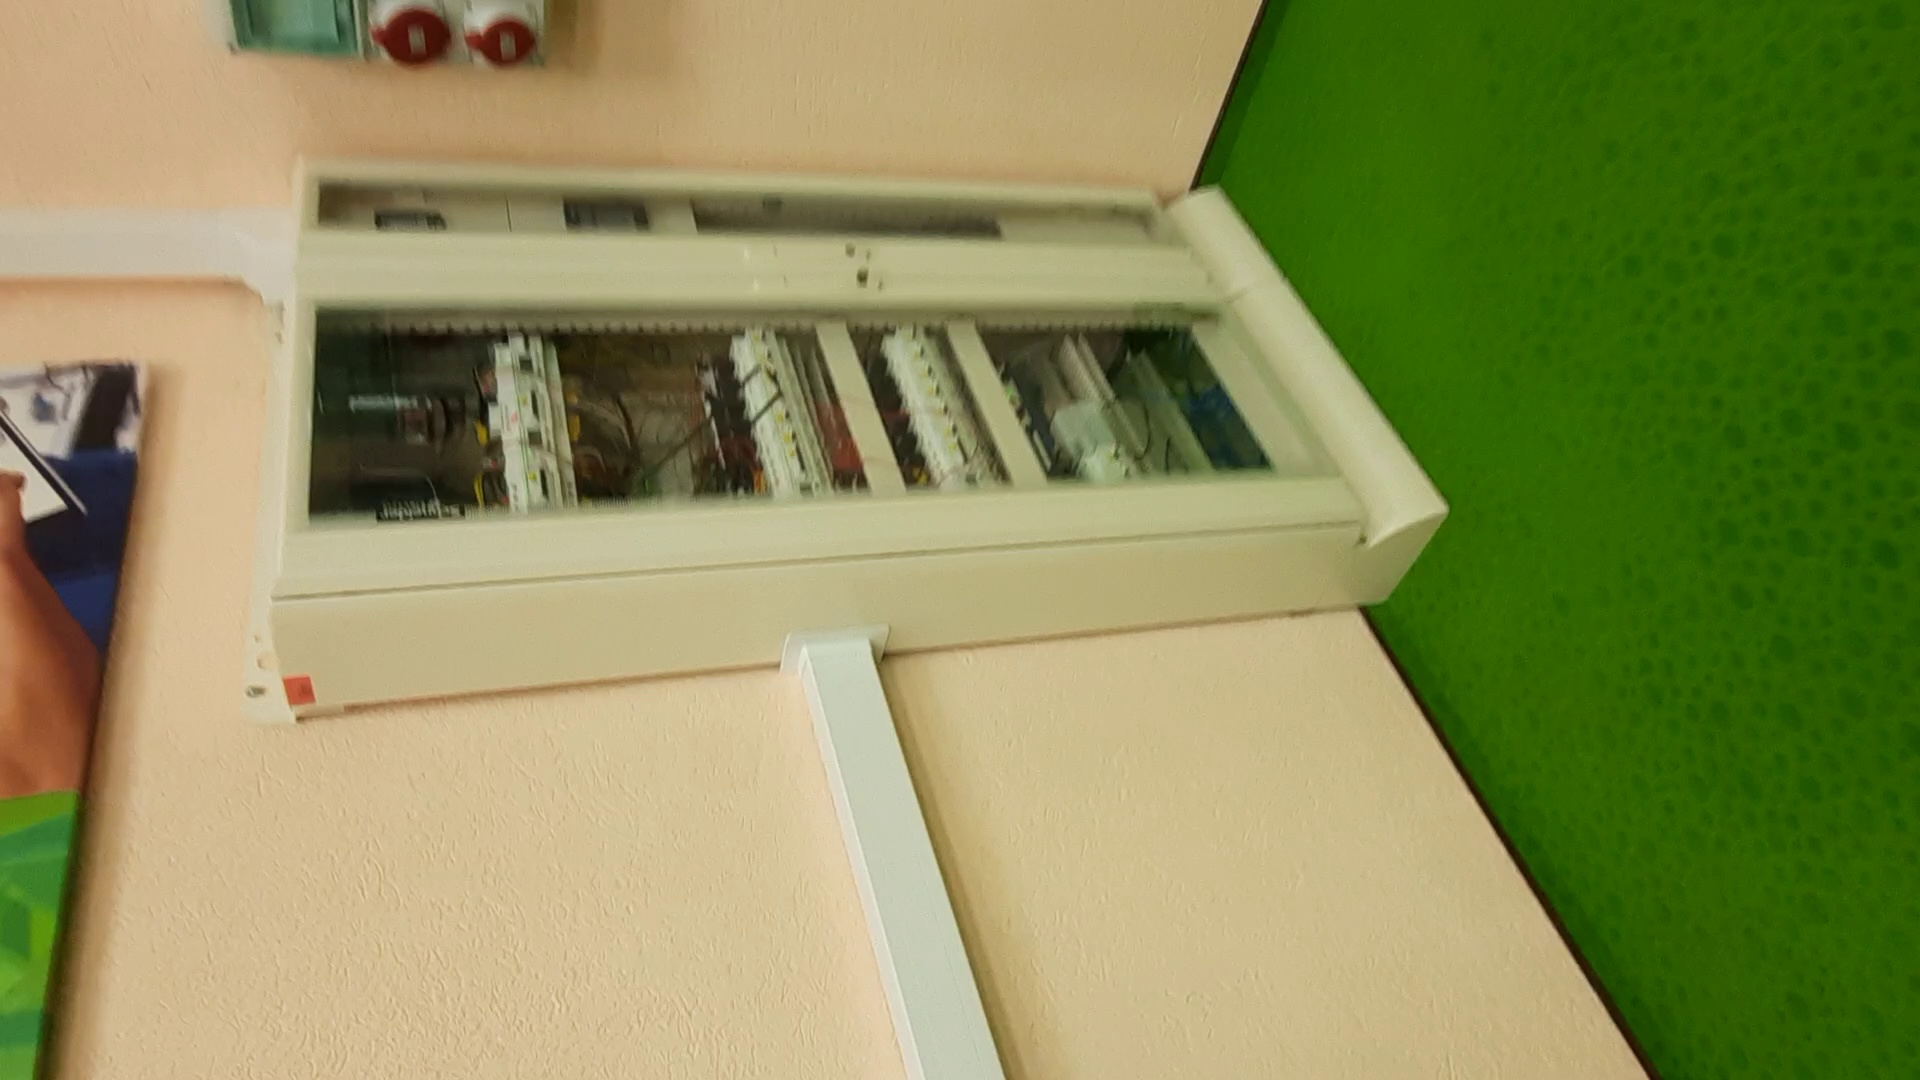stand1: (258, 156, 1449, 729)
